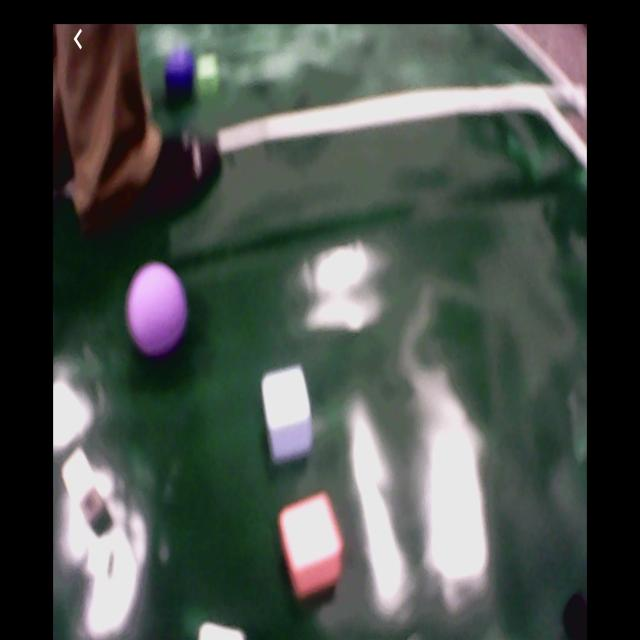ball: (129, 263, 185, 354), (164, 46, 195, 92)
